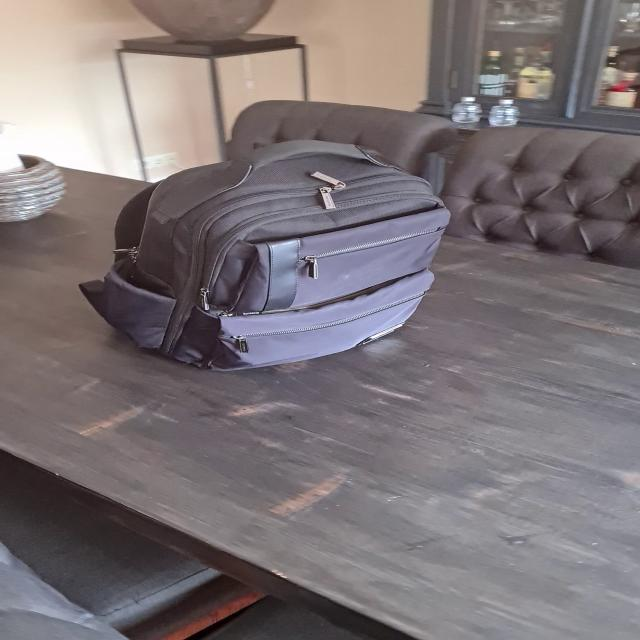backpack: (72, 134, 474, 376)
